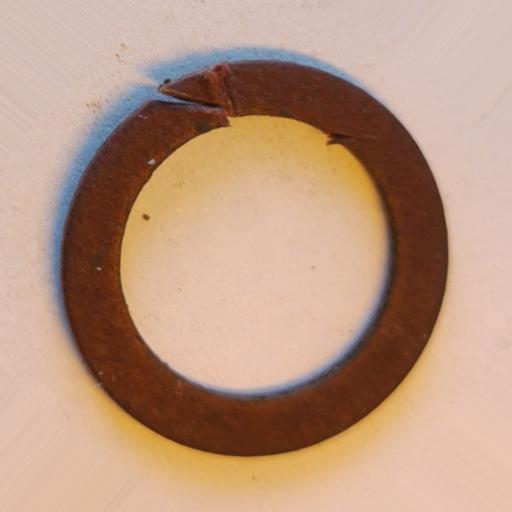defect: (152, 61, 241, 128)
